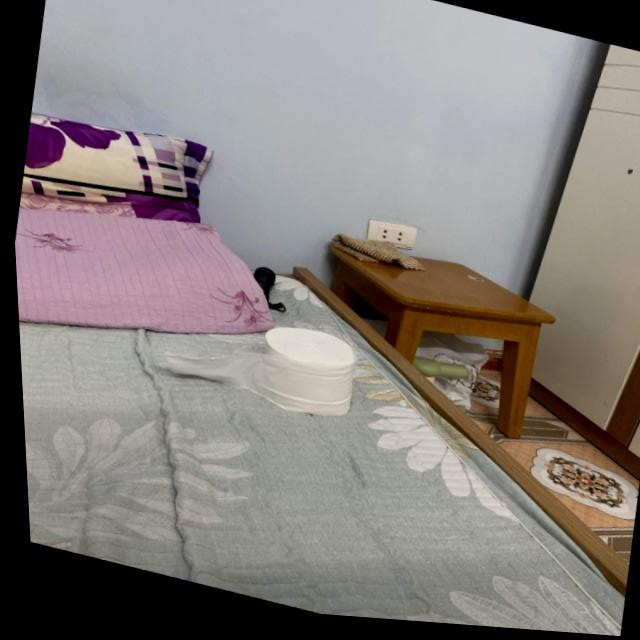outlet: (366, 215, 421, 253)
